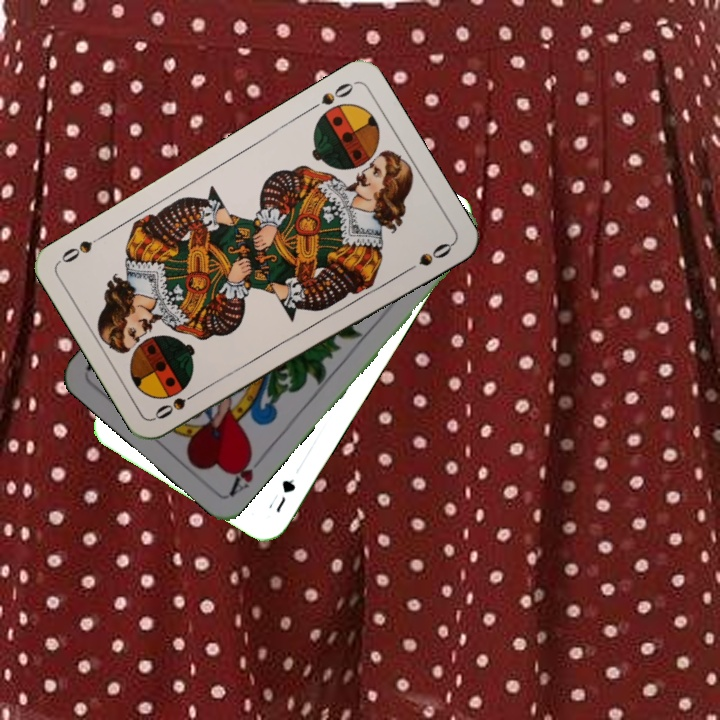GU: (272, 474, 299, 516)
HA: (225, 446, 269, 499)
SO: (150, 385, 205, 422), (304, 78, 358, 114)
